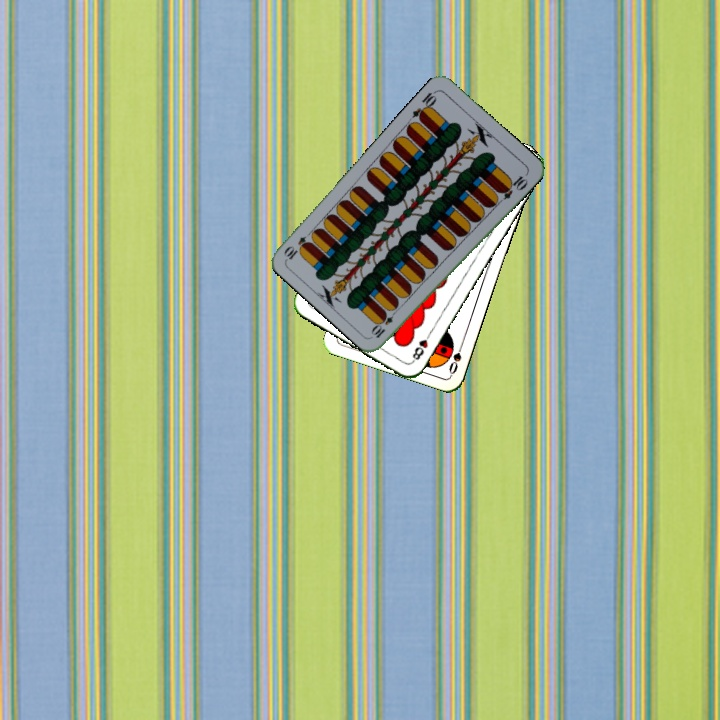E10: (408, 87, 440, 124), (368, 305, 400, 341)
H8: (408, 328, 434, 365)
SO: (445, 337, 467, 377)
